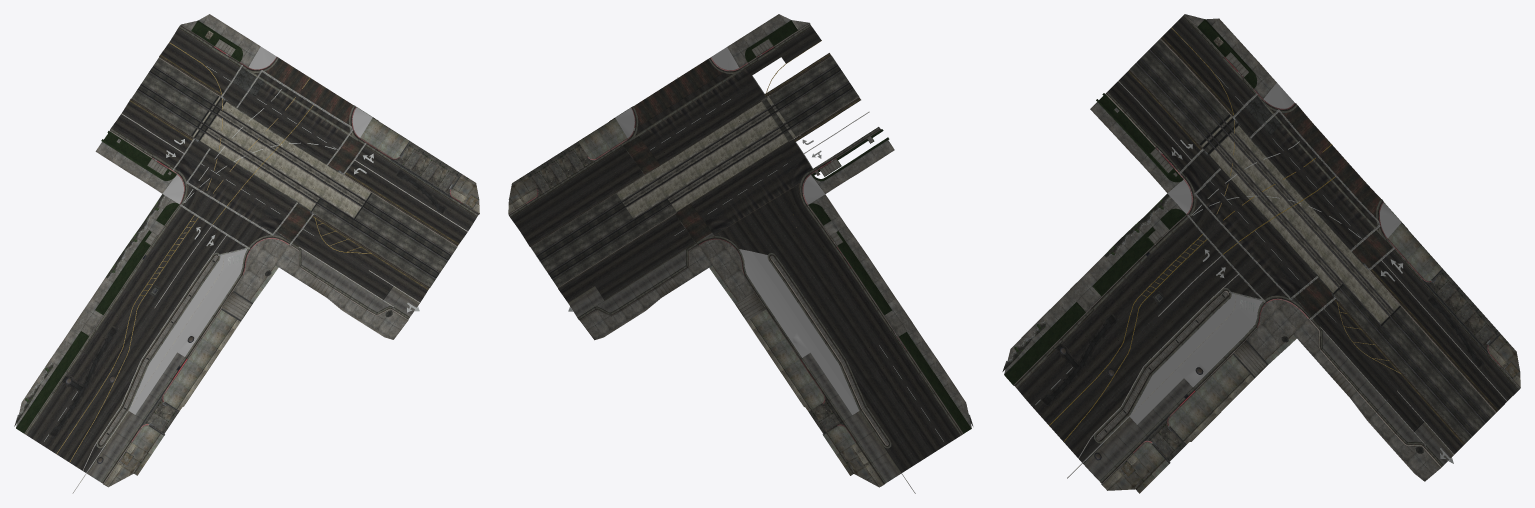
The picture shows the model from 3 angles, left to right: view 1: azimuth 30°, elevation 25°; view 2: azimuth 150°, elevation 25°; view 3: azimuth 330°, elevation 25°; orthographic projection. The views are drawn at different scales.
Parts seen in each view (by area): view 1: sc1_rd_r3_02x; view 2: sc1_rd_r3_02x; view 3: sc1_rd_r3_02x.
Part boxes in pixels (x1,y1,x2,y2): sc1_rd_r3_02x: [14, 14, 479, 493]; sc1_rd_r3_02x: [508, 14, 973, 493]; sc1_rd_r3_02x: [1002, 14, 1520, 493].
Bounding box in the file's own units: 12755 × 11755 × 106.
